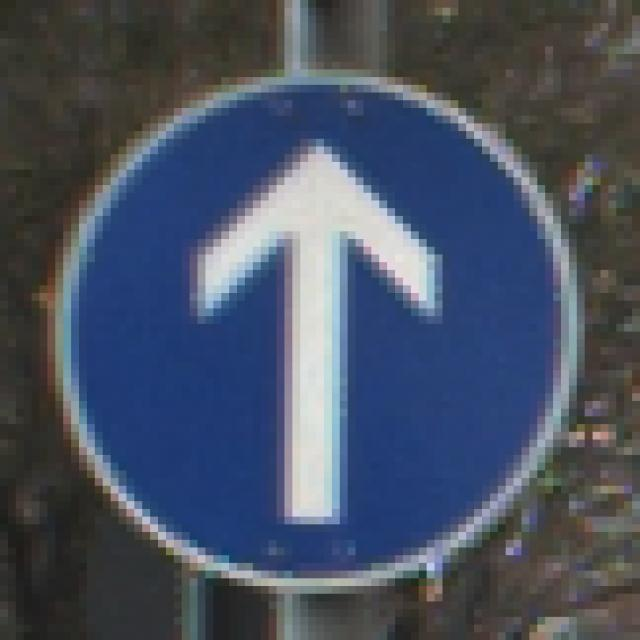compulsary ahead: (46, 67, 593, 600)
